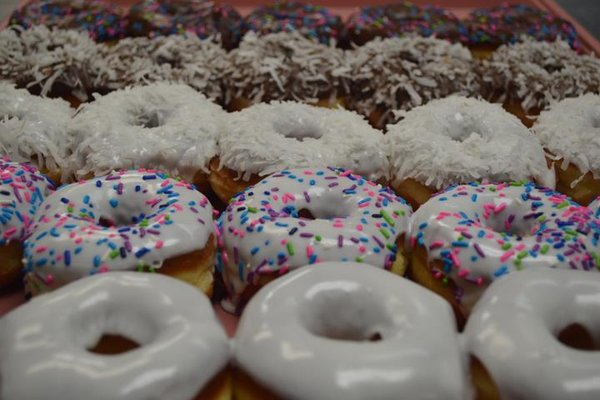salad: (230, 262, 469, 396), (401, 174, 600, 328), (212, 165, 412, 314), (0, 269, 231, 397), (22, 167, 216, 299), (206, 100, 390, 211), (463, 264, 600, 396), (383, 93, 547, 200), (68, 81, 225, 179), (0, 155, 57, 297), (532, 93, 600, 211)
